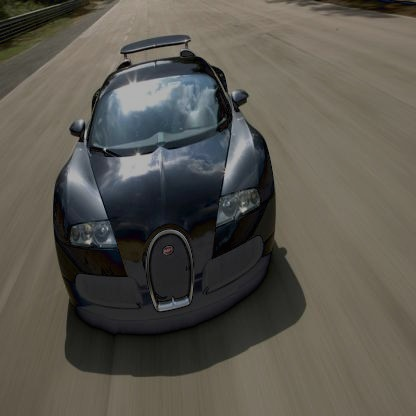Vehicle: (52, 32, 278, 336)
